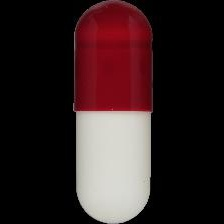16714-388: (0, 0, 224, 224)
